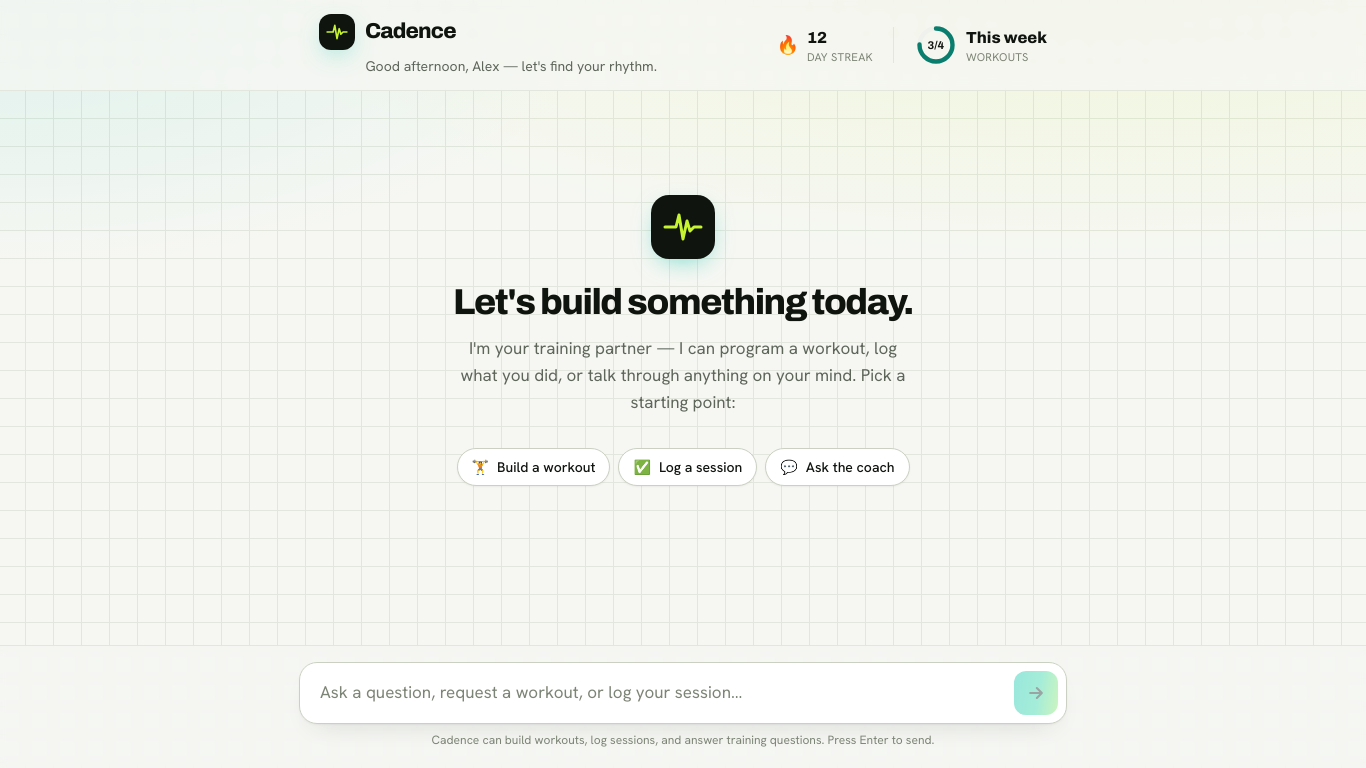
Test: ChatApp › sends a message and shows streaming reply
This screenshot has width=1366, height=768.
Type "What is a squat?" into the text box at coordinates (657, 693), box [308, 671, 1006, 715]
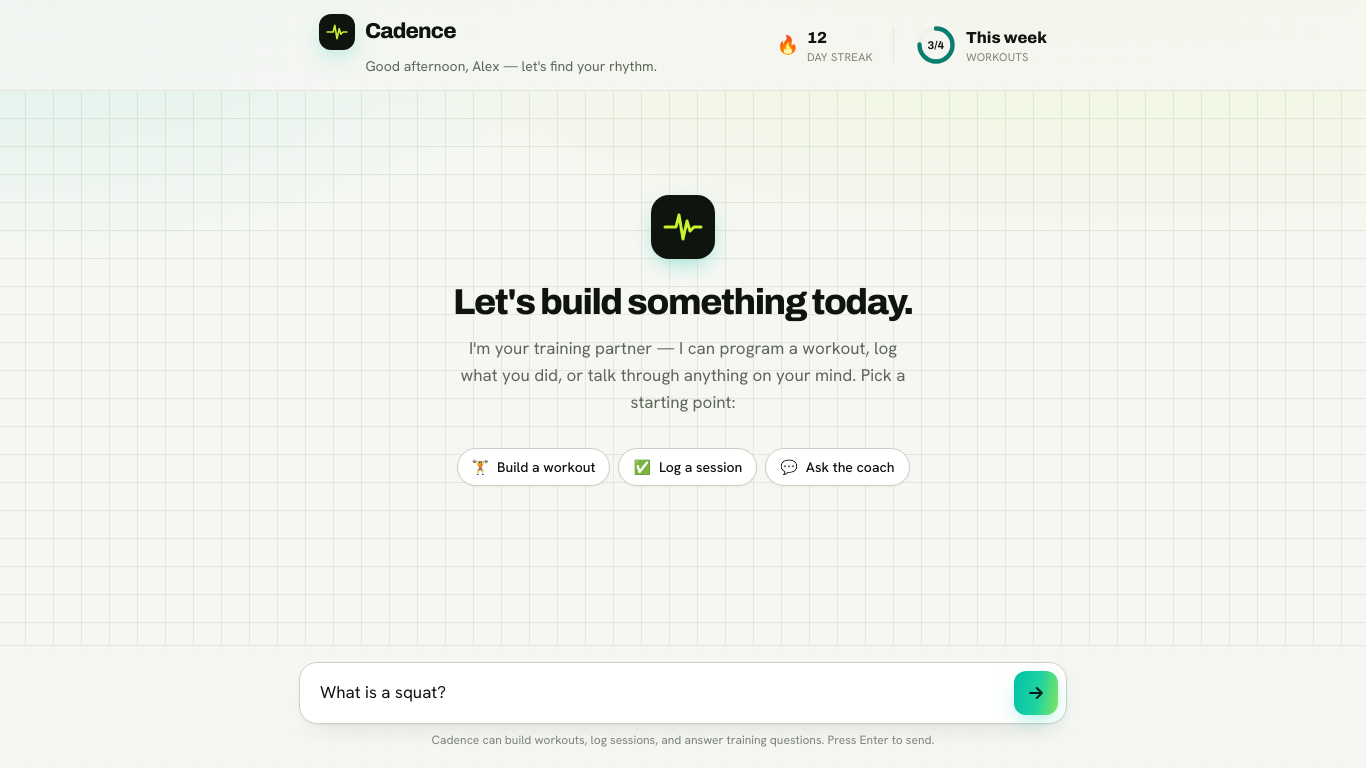
Submit the form, box [299, 662, 1067, 724]
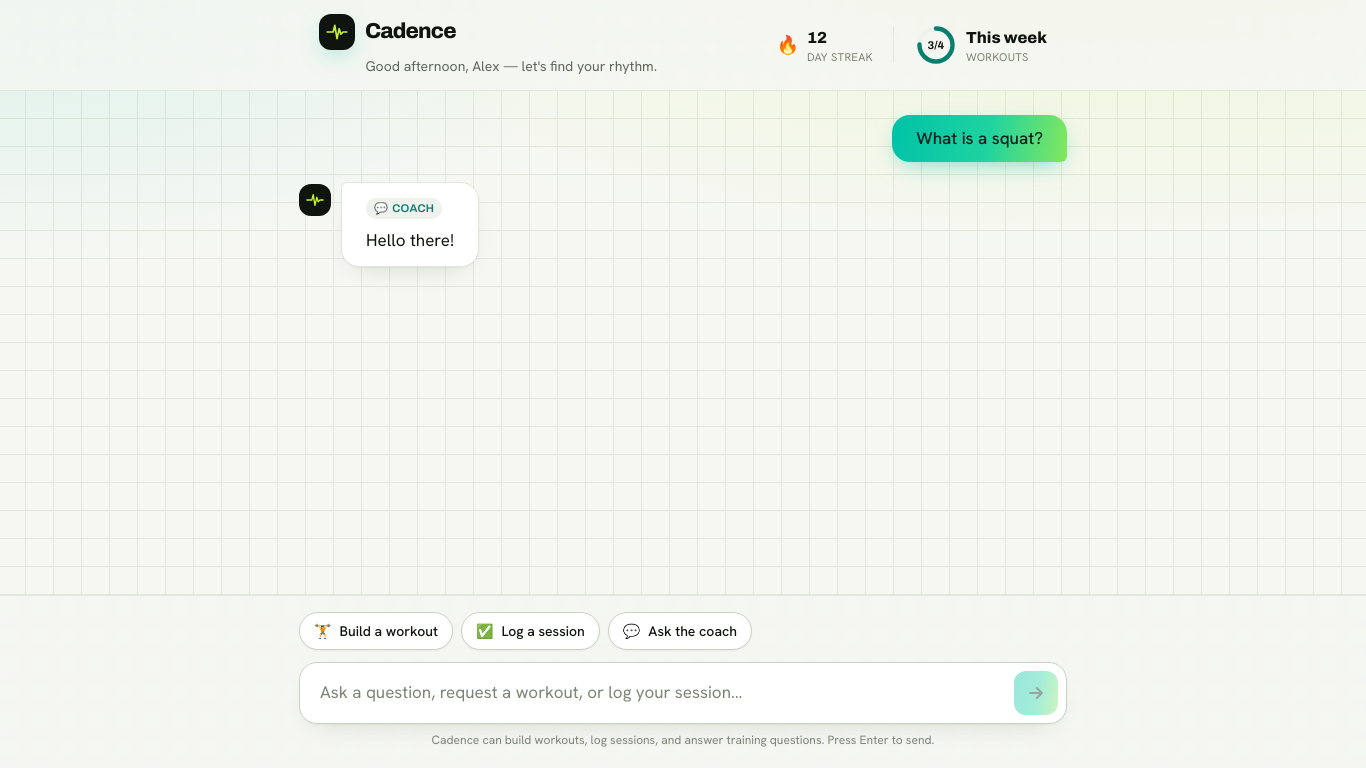
Expected: the text "Hello there!" is shown, [366, 227, 454, 254]
